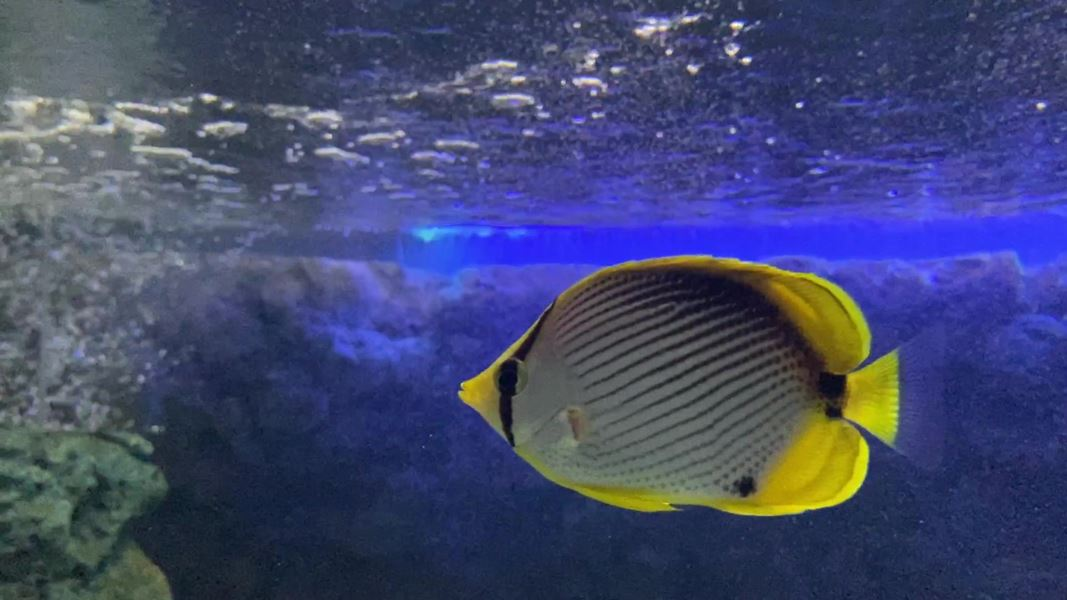Black-backed butterflyfish: (448, 241, 968, 531)
